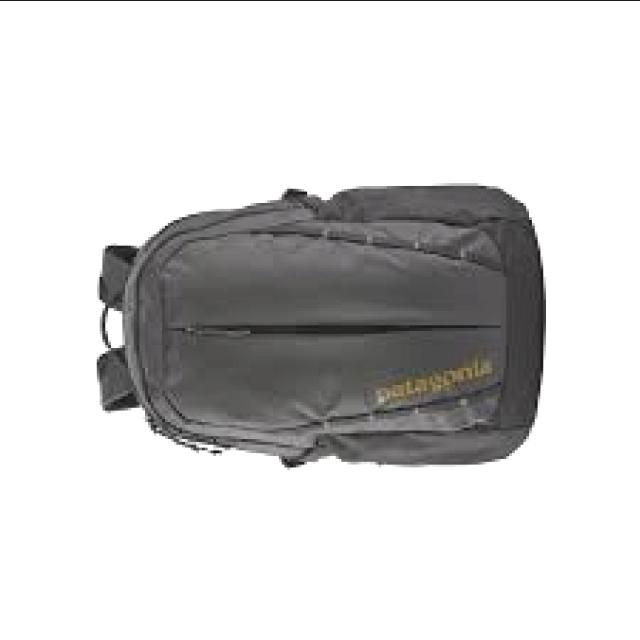backpack: (95, 183, 545, 471)
